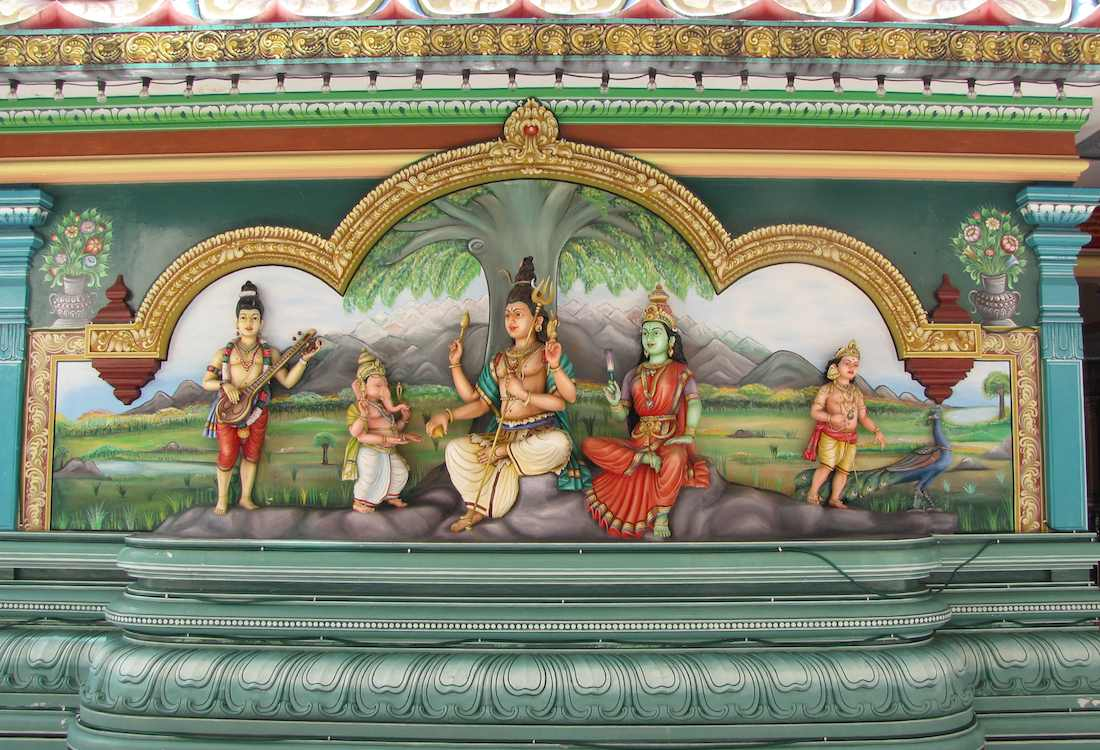Hindu Temple: (199, 242, 883, 524)
